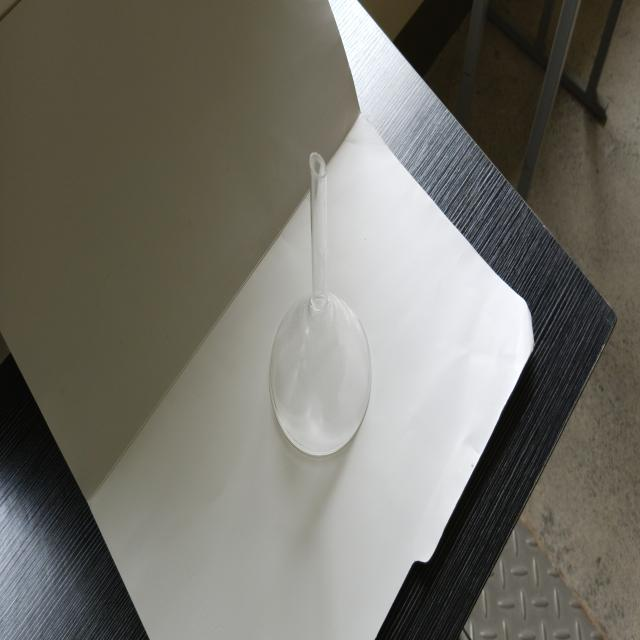funnel: (259, 147, 378, 460)
